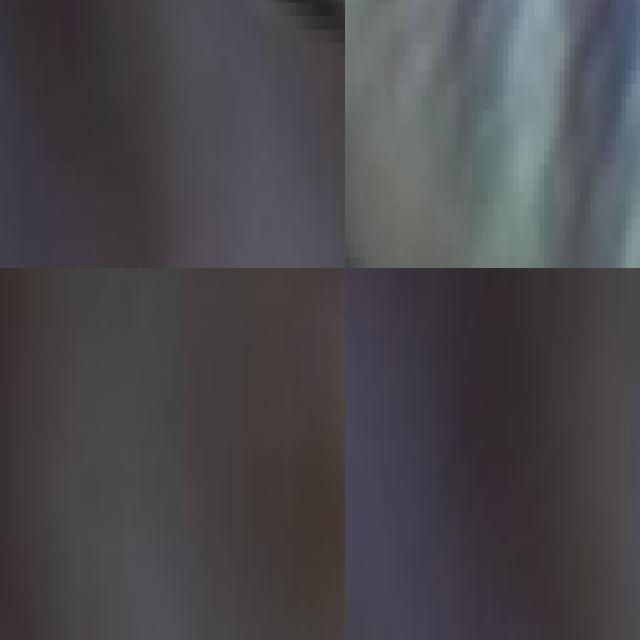fish: (0, 0, 345, 268), (0, 422, 298, 640)
